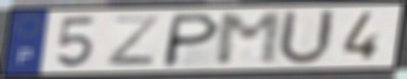4: (340, 10, 383, 64)
5: (54, 15, 97, 69)
M: (214, 10, 284, 68)
P: (158, 11, 224, 69)
U: (274, 8, 338, 68)
Z: (104, 14, 162, 67)
